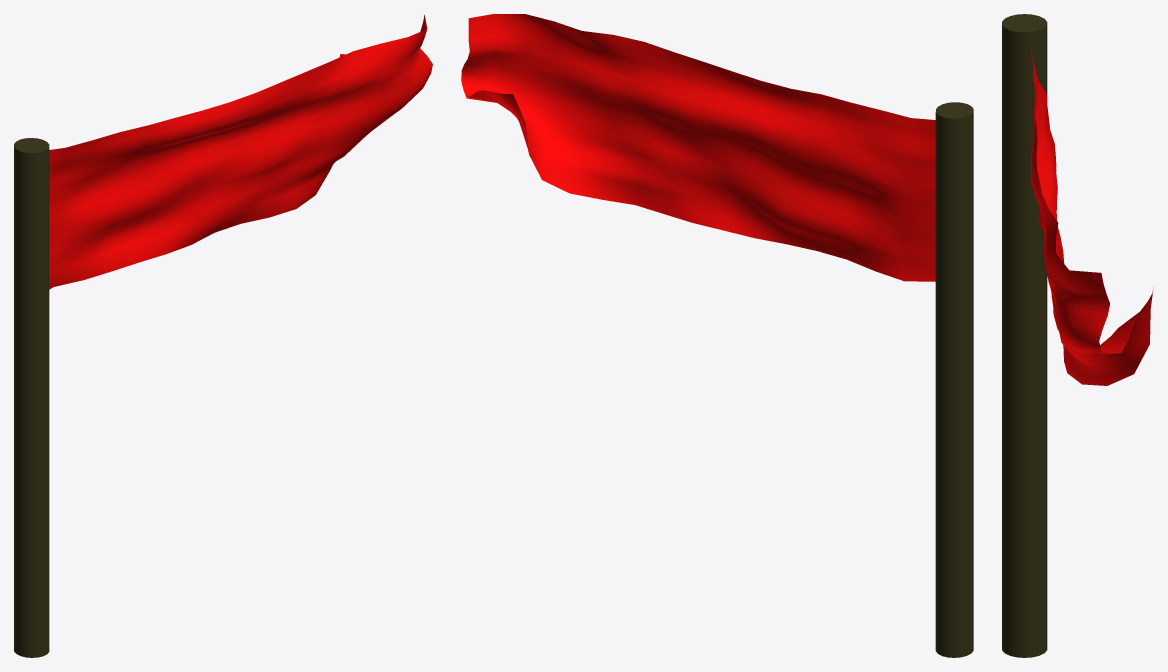
Rendered from flag with animation.FBX.
The picture shows the model from 3 angles, left to right: view 1: azimuth 30°, elevation 25°; view 2: azimuth 150°, elevation 25°; view 3: azimuth 270°, elevation 25°; orthographic projection. The views are drawn at different scales.
Visible parts, largest first — view 1: Plane001, Cylinder001; view 2: Plane001, Cylinder001; view 3: Cylinder001, Plane001.
Boxes of the visible parts, x1,y1,x2,y2 form: Plane001: (49, 15, 432, 289); Cylinder001: (14, 138, 49, 657); Plane001: (461, 14, 935, 281); Cylinder001: (935, 102, 973, 657); Cylinder001: (1002, 14, 1047, 657); Plane001: (1031, 48, 1153, 385).
Bounding box in the file's own units: 17.1 × 18.66 × 4.06.
